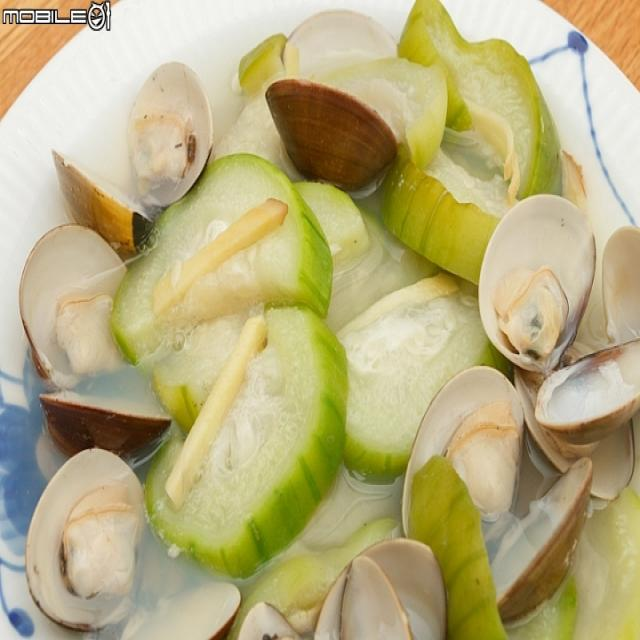Wet: (63, 8, 584, 620)
